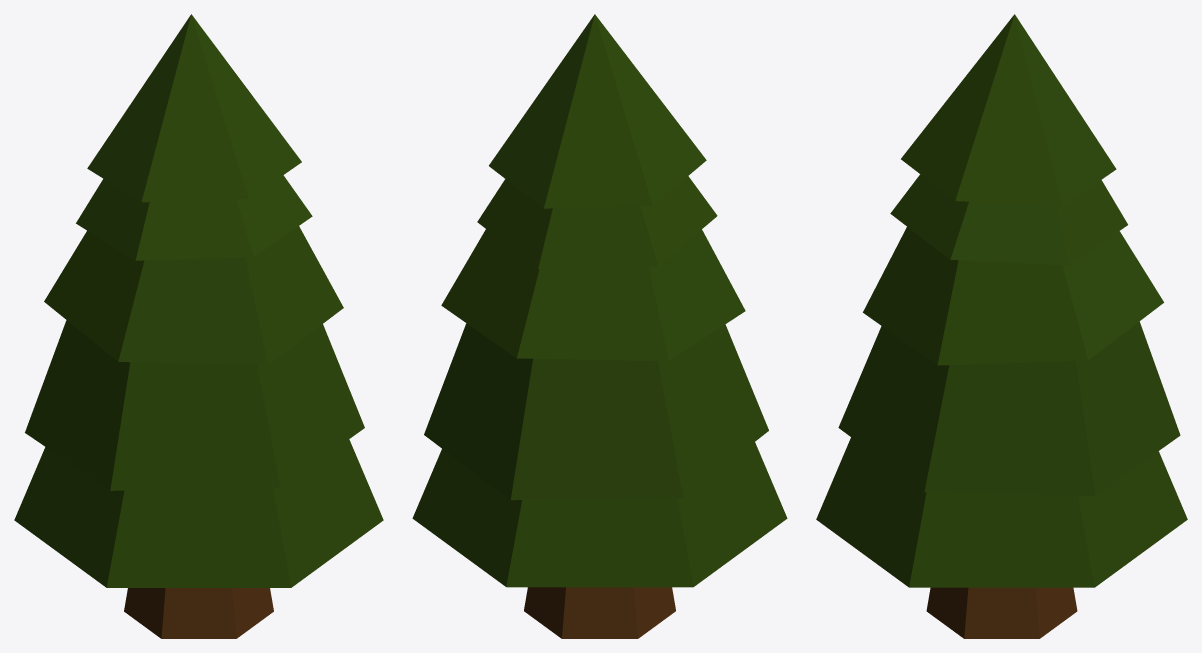
File: Tree2.fbx
3 renders of one model, left to right at view 1: azimuth 30°, elevation 25°; view 2: azimuth 150°, elevation 25°; view 3: azimuth 270°, elevation 25°, orthographic.
Visible parts, largest first — view 1: Cylinder.005; view 2: Cylinder.005; view 3: Cylinder.005.
Part boxes in pixels (x1,y1,x2,y2): Cylinder.005: [14, 14, 383, 638]; Cylinder.005: [412, 14, 787, 638]; Cylinder.005: [816, 14, 1187, 638].
Size of the model in its own units: 492 by 426 by 872.
